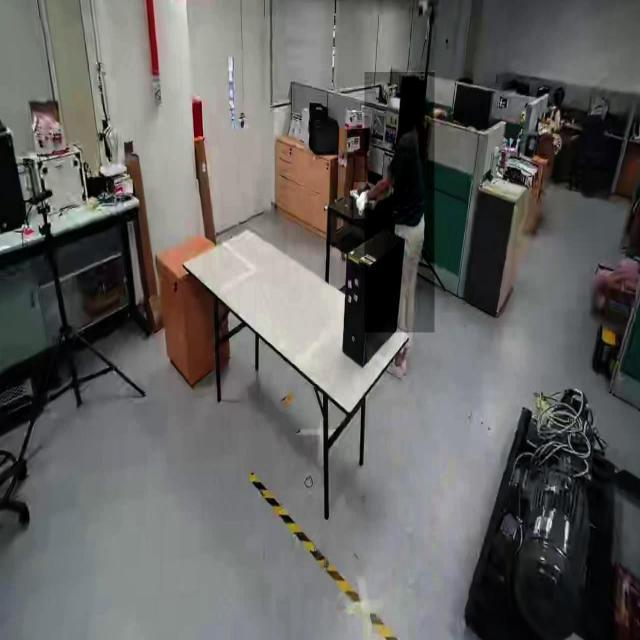gloves: (353, 182, 368, 220)
